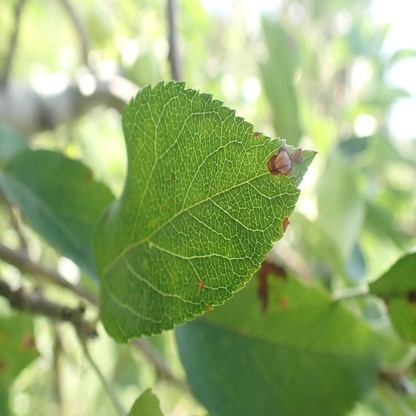frogeye_leaf_spot: (267, 149, 303, 175), (283, 217, 291, 232), (198, 280, 203, 289), (254, 132, 259, 137)
